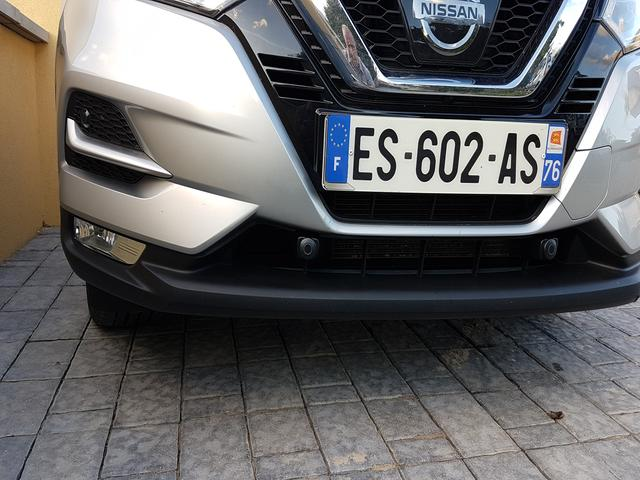Quashquai: (300, 75, 590, 256)
